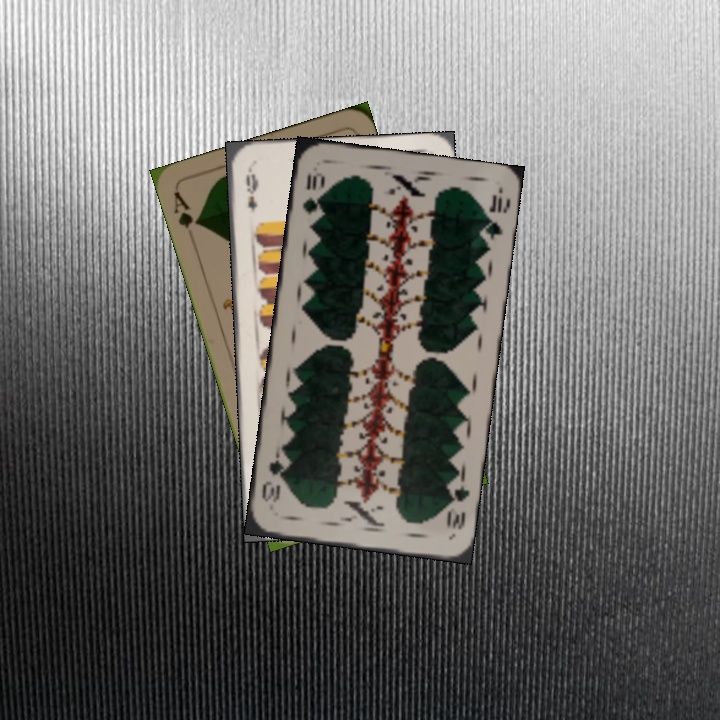E9: (242, 166, 261, 213)
G10: (442, 481, 472, 532), (298, 168, 327, 217)
GA: (169, 187, 203, 232)
